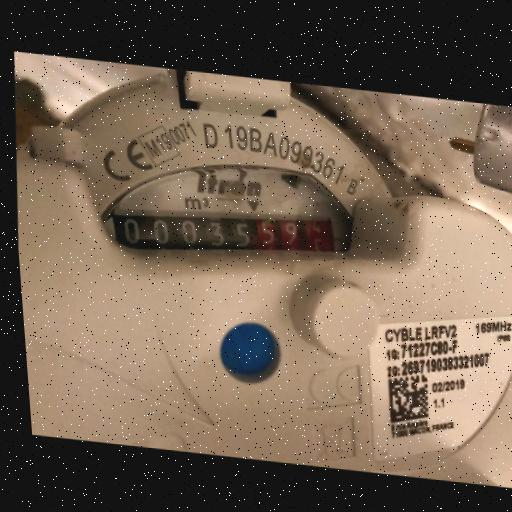0: (168, 212, 206, 253), (114, 212, 150, 252), (141, 212, 177, 252)
3: (196, 213, 234, 255)
4: (299, 218, 333, 255)
5: (223, 213, 259, 254), (249, 215, 284, 253)
9: (275, 217, 308, 254)
border_water_meter_number: (108, 185, 343, 279)
